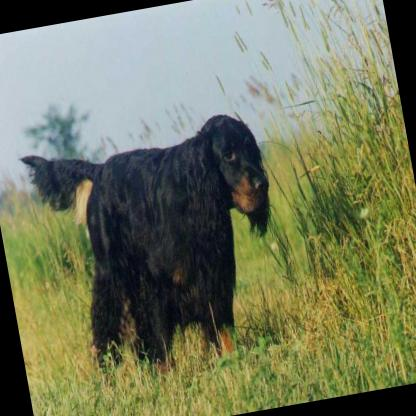Gordon_setter: (15, 107, 300, 394)
